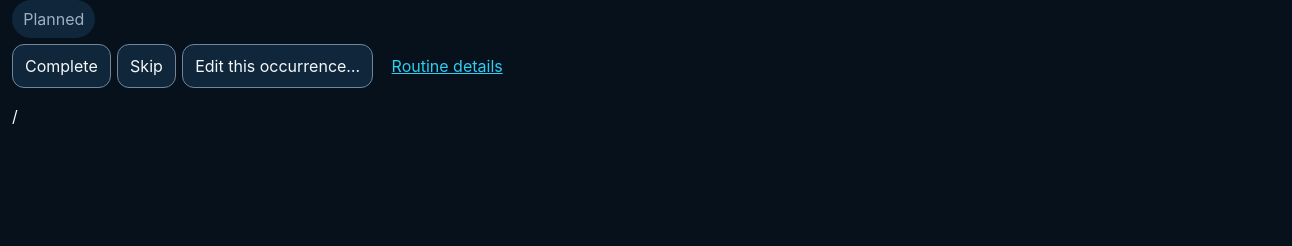
Test: Occurrence feedback › announces a completed occurrence once and offers Undo
Click the button named "Complete Call home": (61, 66) 12,44 -> 111,88
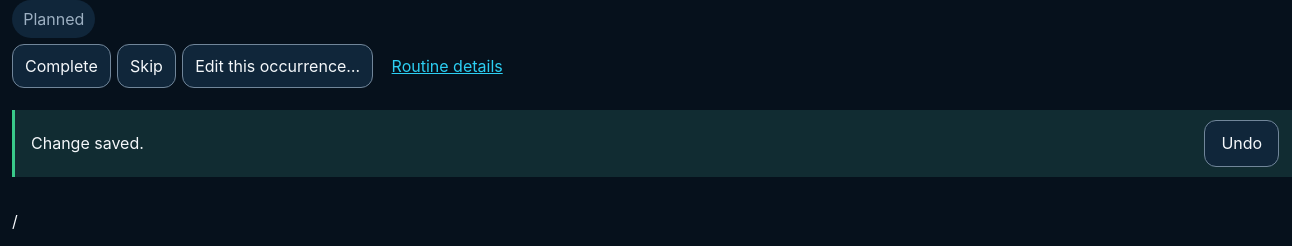
Expected: the button "Undo" is shown, 1204,120 -> 1279,167
